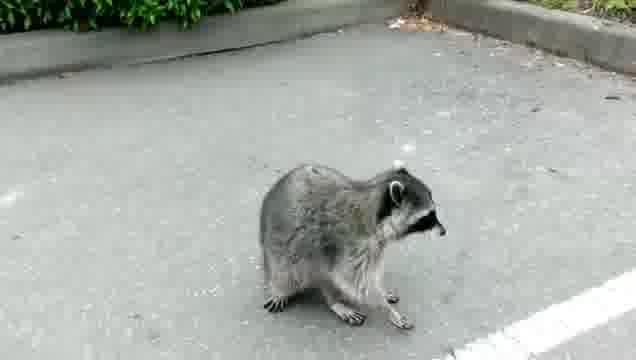raccoon: (259, 161, 445, 332)
